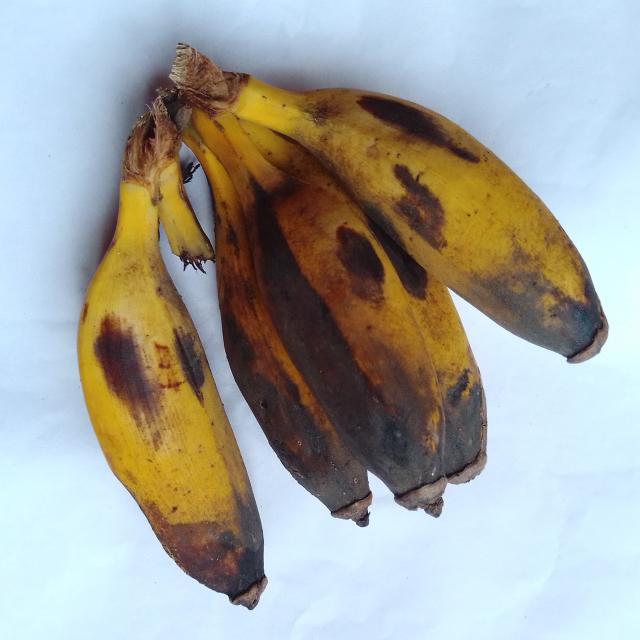banana: (171, 45, 607, 362), (193, 112, 446, 512), (78, 103, 266, 608), (182, 127, 371, 526), (360, 210, 486, 483), (154, 128, 214, 271)
